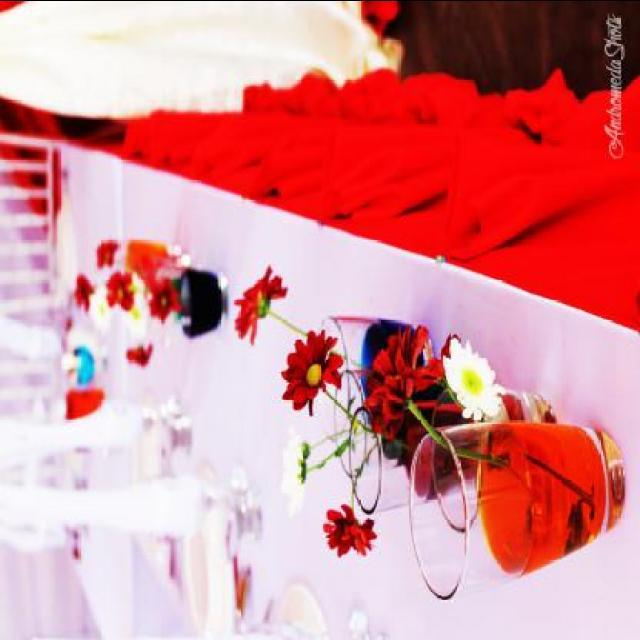Juice: (475, 415, 619, 583)
